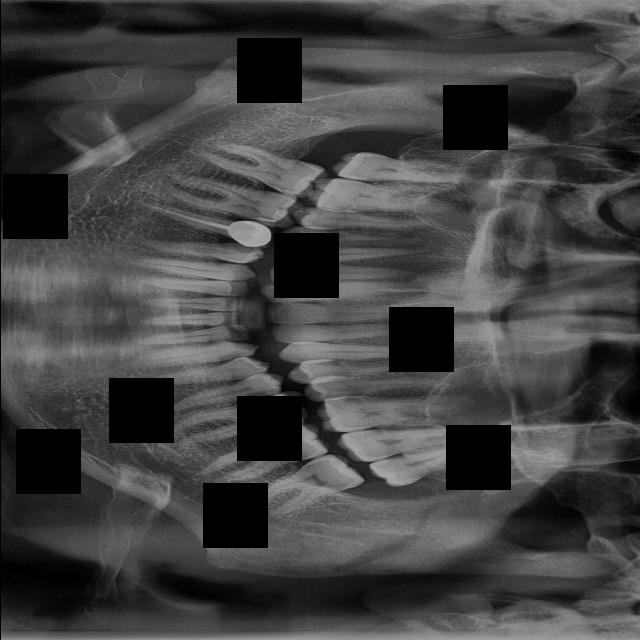74: (140, 200, 230, 231)
NucleOSS Implant: (260, 394, 295, 414)
Sterngold Implant: (216, 240, 260, 256), (219, 349, 249, 363), (251, 214, 279, 226), (246, 388, 273, 399), (348, 397, 375, 405), (333, 204, 360, 211)
Zimmer Implant: (227, 220, 272, 248)
